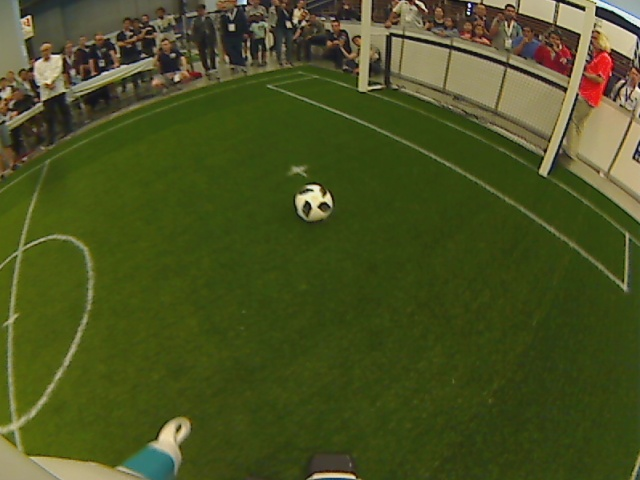ball: (289, 178, 335, 222)
